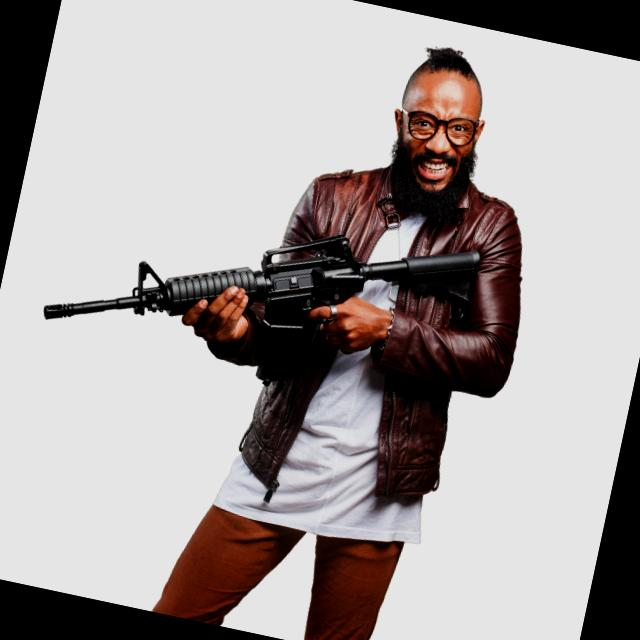rifle: (20, 152, 495, 421)
